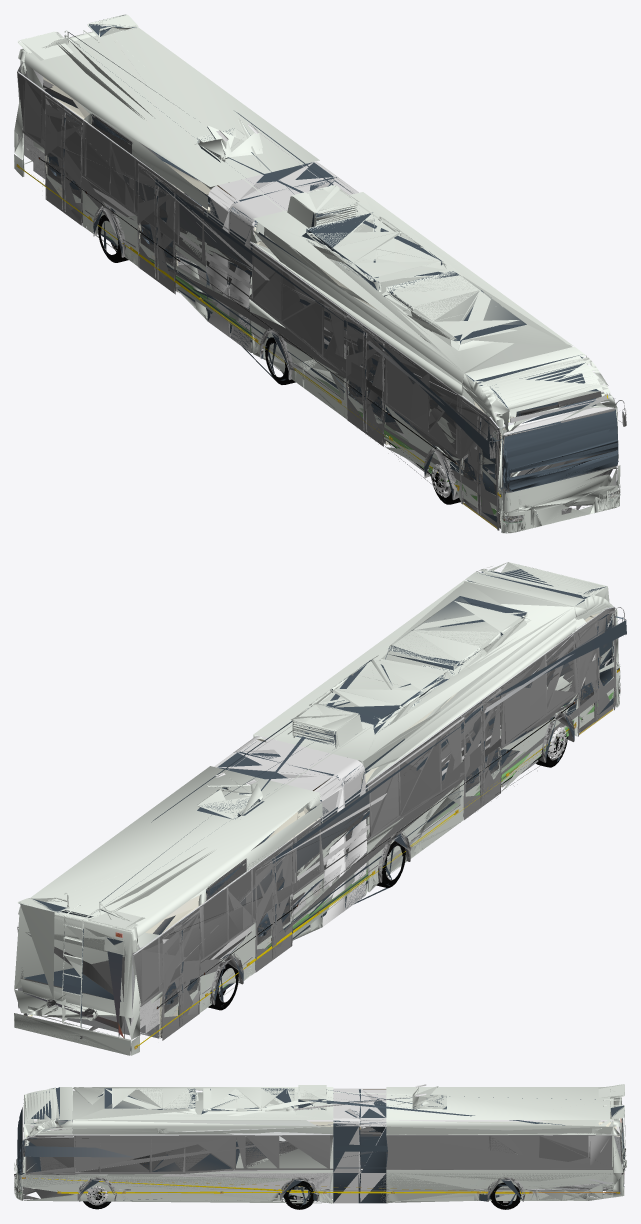
File: trolley_aksm333.glb
The picture shows the model from 3 angles, top to bottom: view 1: azimuth 30°, elevation 25°; view 2: azimuth 150°, elevation 25°; view 3: azimuth 270°, elevation 25°; orthographic projection. The views are drawn at different scales.
Parts seen in each view (by area): view 1: hi, mid, lo, hi_glass; view 2: hi, mid, lo, hi_glass; view 3: hi, mid, lo, hi_glass.
Boxes of the visible parts, x1,y1,x2,y2 form: hi: [14, 14, 626, 533]; mid: [15, 14, 623, 531]; lo: [17, 40, 617, 515]; hi_glass: [48, 20, 623, 531]; hi: [14, 562, 626, 1055]; mid: [14, 562, 620, 1055]; lo: [20, 581, 614, 1030]; hi_glass: [19, 569, 626, 1004]; hi: [14, 1084, 626, 1209]; mid: [14, 1084, 625, 1208]; lo: [16, 1089, 623, 1198]; hi_glass: [17, 1087, 624, 1208].
Size of the model in its own units: 2.87 by 3.35 by 18.
2 materials, 1 textured.
